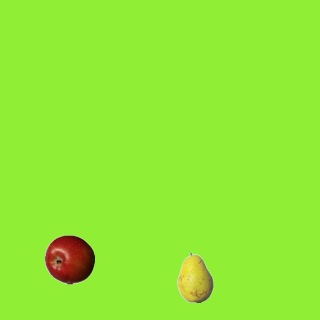Apple Braeburn: (44, 234, 94, 284)
Pear Monster: (170, 252, 220, 302)
